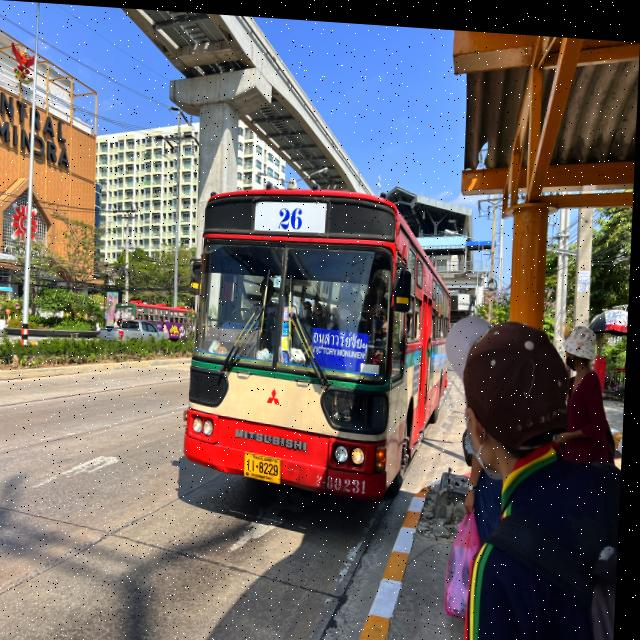BMTA-bus: (184, 178, 460, 503)
Bus-Line-Number: (255, 195, 329, 235)
Destination-Sign-Normal: (313, 323, 377, 373)
